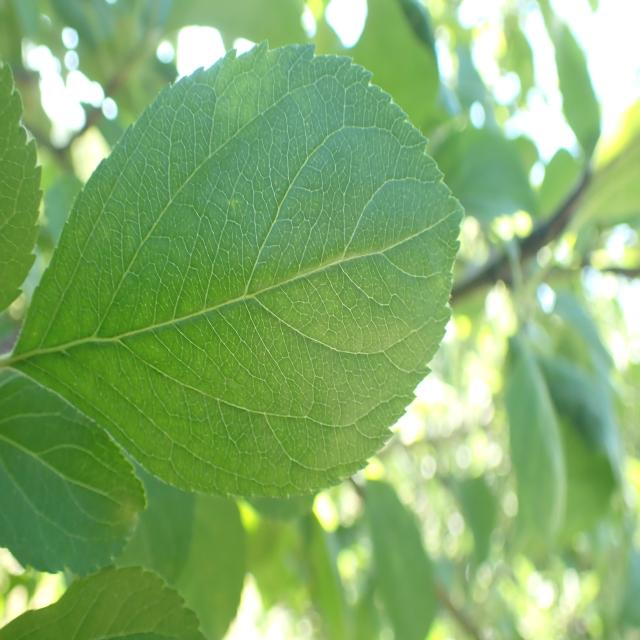healthy: (8, 39, 465, 500), (0, 366, 148, 576), (0, 564, 209, 640), (0, 60, 44, 312)
